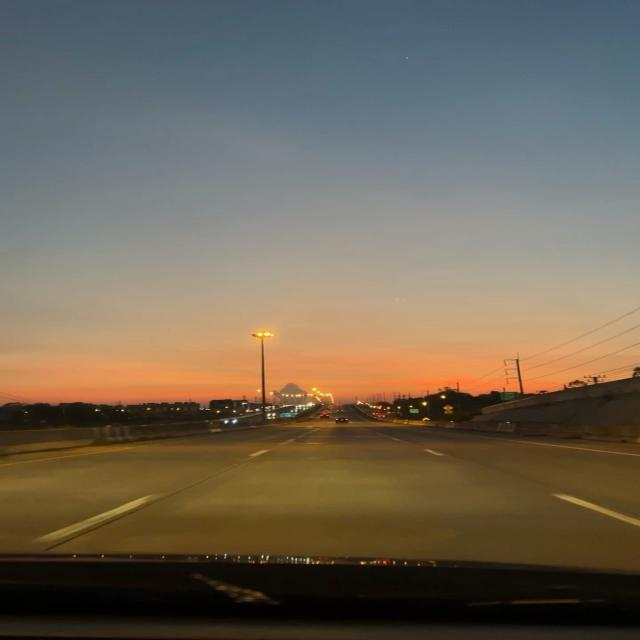Poth-hole: (87, 435, 533, 518)
